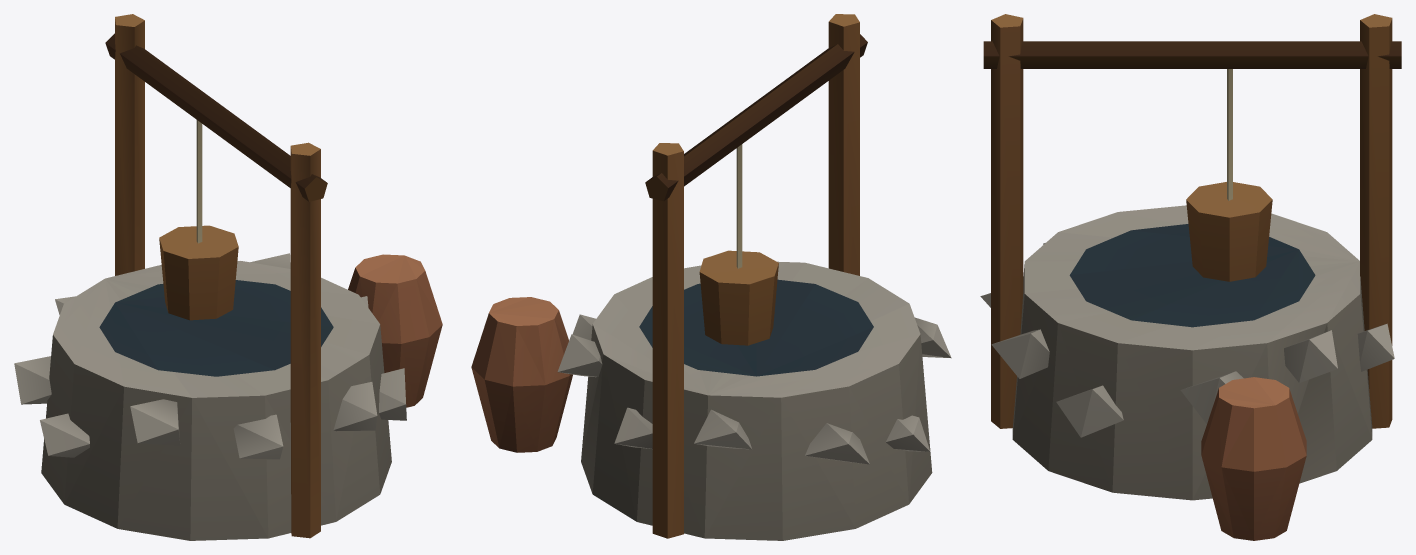
The model's file is bethwell.glb.
3 views of the same model, side by side, from view 1: azimuth 30°, elevation 25°; view 2: azimuth 150°, elevation 25°; view 3: azimuth 270°, elevation 25° (orthographic). The views are drawn at different scales.
Visible parts, largest first — view 1: base; view 2: base; view 3: base.
Part boxes in pixels (<box>): base: <box>14,14,442,540</box>; base: <box>471,14,951,540</box>; base: <box>980,14,1401,540</box>.
Size of the model in its own units: 0.4134 by 0.36 by 0.3426.
